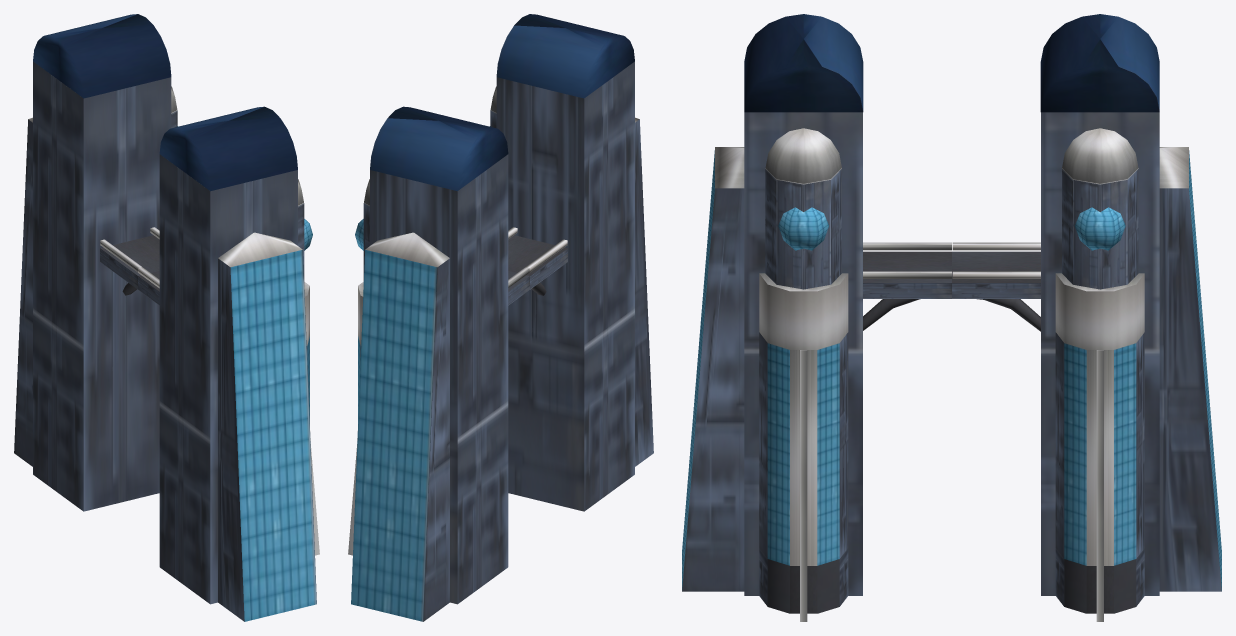
The model's file is Skyscraper.fbx.
The picture shows the model from 3 angles, left to right: view 1: azimuth 30°, elevation 25°; view 2: azimuth 150°, elevation 25°; view 3: azimuth 270°, elevation 25°; orthographic projection. The views are drawn at different scales.
Visible parts, largest first — view 1: pCube9, pCube2, pCube3, pSphere1, pSphere5, pCube8, pCube13, pSphere4, pCylinder1, pCube5; view 2: pCube3, pCube8, pCube9, pSphere1, pSphere5, pCube2, pCube5, pSphere7, pCylinder3, pCube13; view 3: pCylinder1, pCylinder3, pCube2, pCube8, pCube3, pCube9, pSphere1, pSphere5, pSphere4, pSphere7, pCube13, pCube5 (+6 smaller).
Part boxes in pixels (x1,y1,x2,y2): pCube9: (33, 61, 171, 511); pCube2: (218, 232, 316, 621); pCube3: (159, 154, 297, 604); pSphere1: (159, 106, 297, 191); pSphere5: (33, 14, 171, 98); pCube8: (14, 117, 32, 466); pCube13: (100, 235, 159, 289); pSphere4: (298, 179, 304, 280); pCylinder1: (304, 282, 309, 423); pCube5: (138, 271, 159, 305); pCube3: (496, 61, 634, 511); pCube8: (351, 232, 449, 621); pCube9: (370, 154, 508, 604); pSphere1: (496, 14, 634, 98); pSphere5: (370, 106, 508, 191); pCube2: (635, 117, 653, 466); pCube5: (508, 235, 567, 289); pSphere7: (363, 179, 369, 280); pCylinder3: (358, 282, 363, 423); pCube13: (508, 271, 529, 305); pCylinder1: (759, 273, 848, 613); pCylinder3: (1055, 273, 1144, 613); pCube2: (682, 147, 744, 591); pCube8: (1159, 147, 1221, 591); pCube3: (744, 112, 862, 595); pCube9: (1041, 112, 1159, 595); pSphere1: (744, 14, 863, 112); pSphere5: (1040, 14, 1159, 112); pSphere4: (765, 128, 841, 289); pSphere7: (1062, 128, 1138, 289); pCube13: (952, 251, 1040, 298); pCube5: (863, 251, 951, 298).
Size of the model in its own units: 6.08 by 19.79 by 18.2.
Materials: 1 (1 with a texture image).
